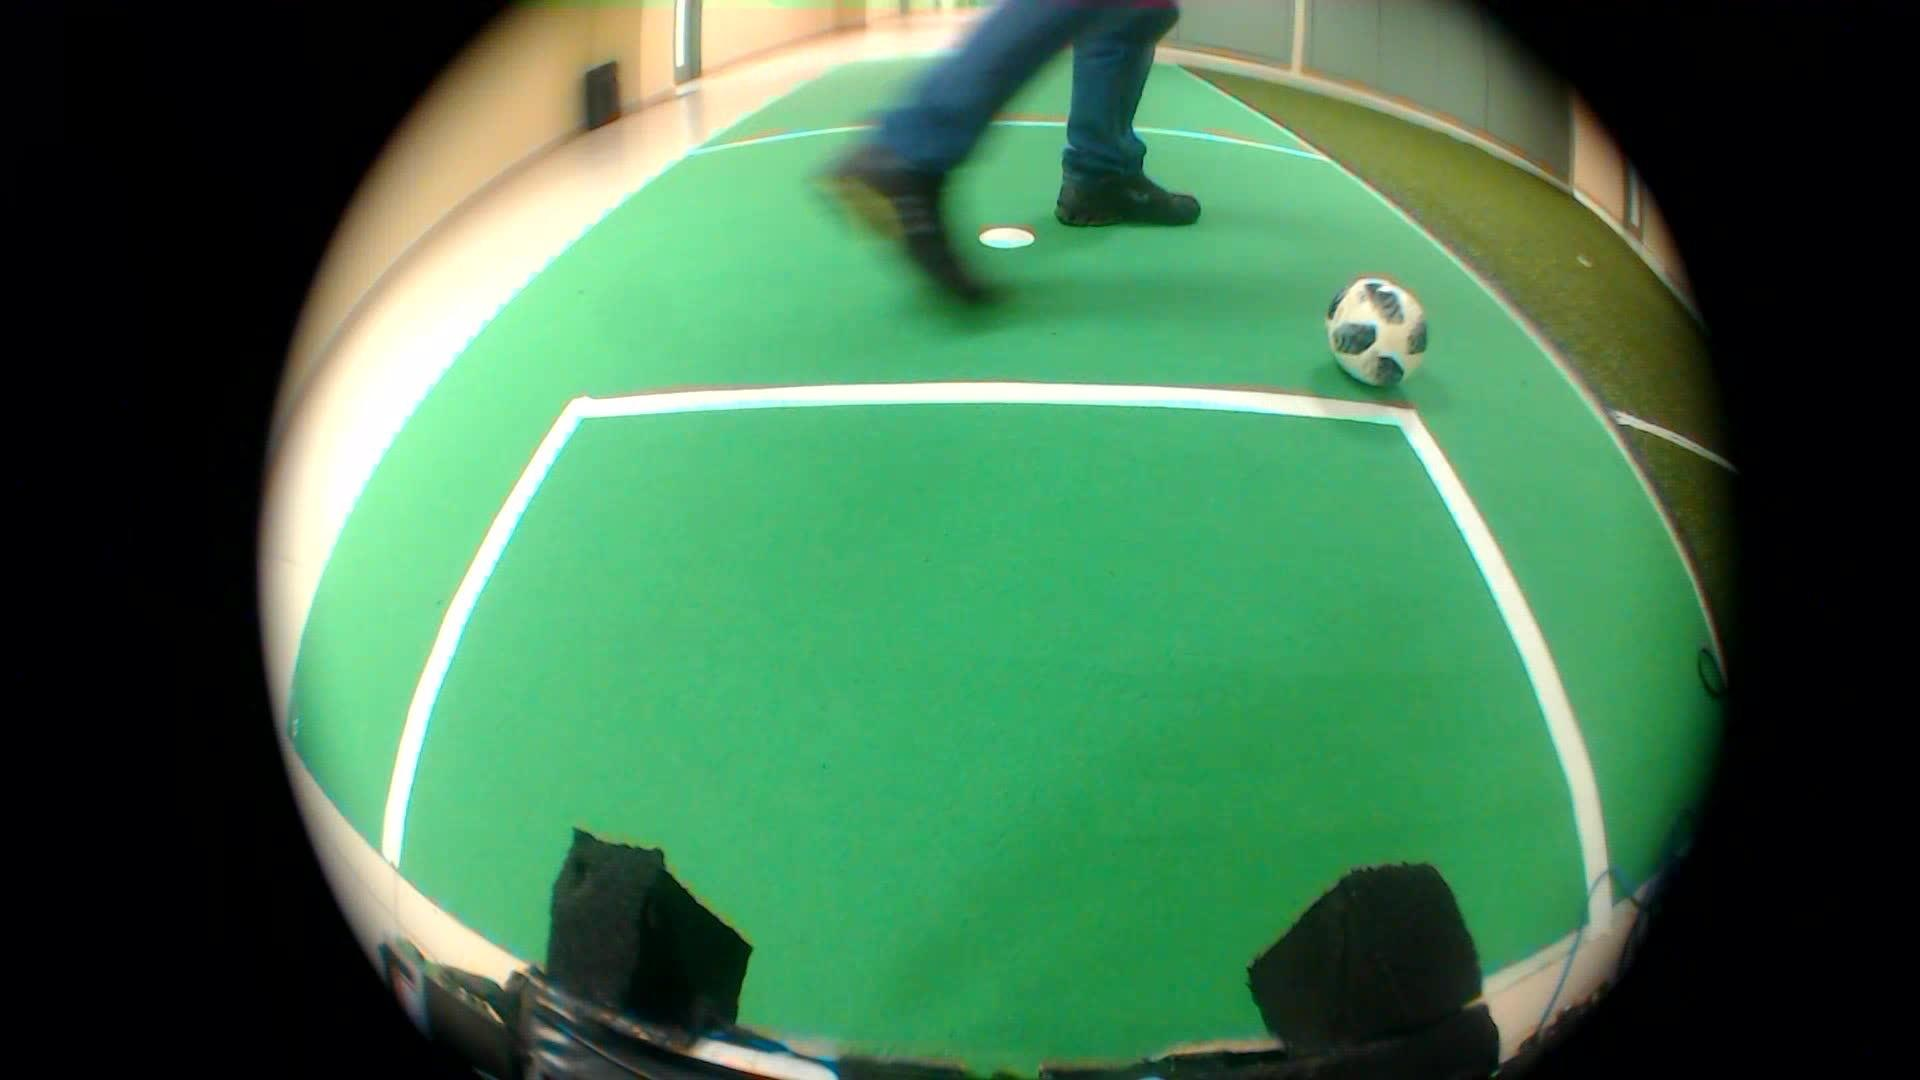ball: (1317, 272, 1435, 400)
